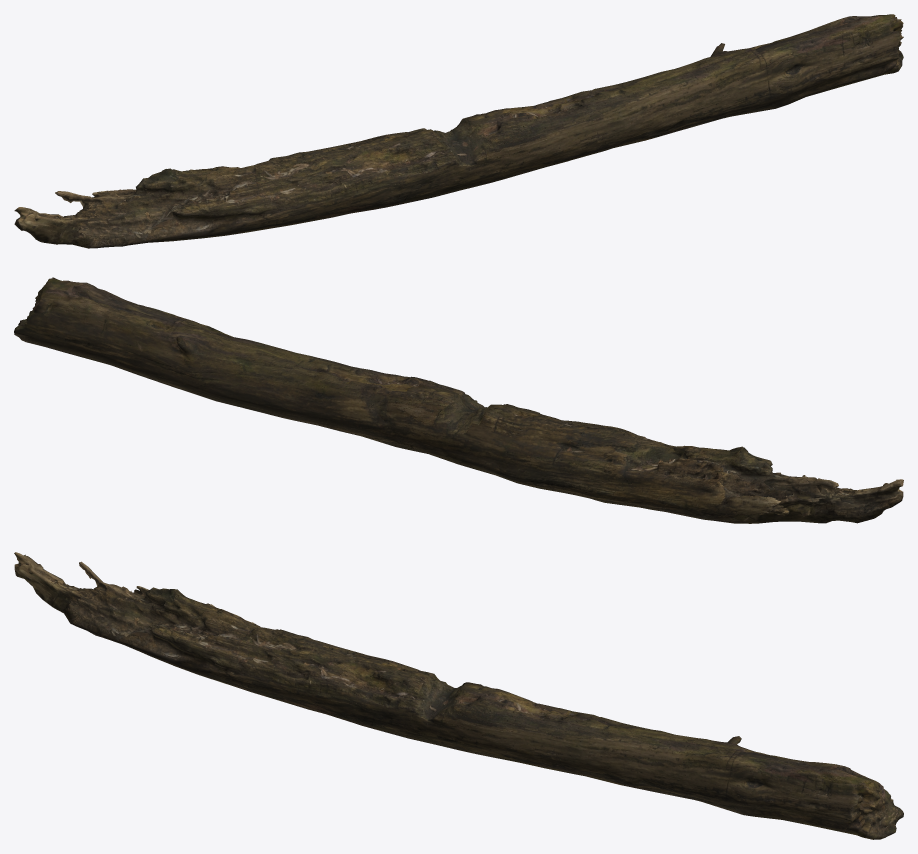
Rendered from dead_tree_trunk_1k.gltf.
3 renders of one model, top to bottom at view 1: azimuth 30°, elevation 25°; view 2: azimuth 150°, elevation 25°; view 3: azimuth 330°, elevation 25°, orthographic.
Visible parts, largest first — view 1: dead_tree_trunk; view 2: dead_tree_trunk; view 3: dead_tree_trunk.
Boxes of the visible parts, bbox=[...] form: dead_tree_trunk: bbox=[14, 14, 903, 248]; dead_tree_trunk: bbox=[14, 277, 903, 523]; dead_tree_trunk: bbox=[14, 552, 903, 839].
Bounding box in the file's own units: 3.05 × 0.2898 × 0.2775.
1 material, 1 textured.
